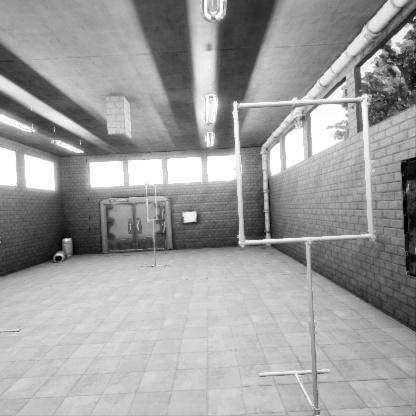gate: (237, 175, 389, 327), (145, 195, 157, 235)
